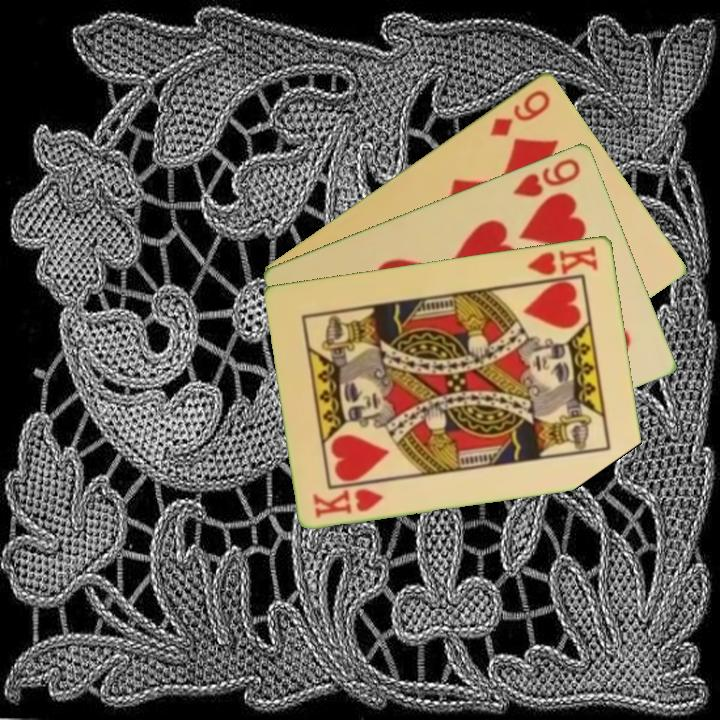9d: (486, 85, 554, 139)
9h: (509, 154, 584, 200)
Kh: (522, 241, 601, 285), (309, 484, 387, 521)
